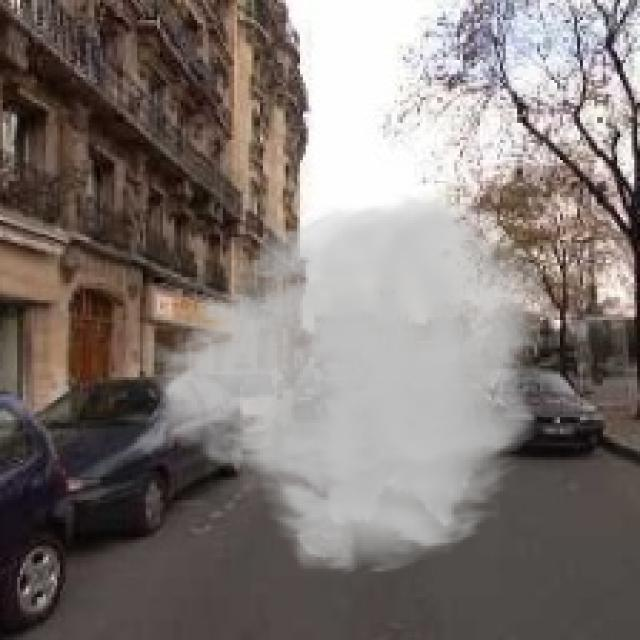Smoke: (132, 188, 557, 578)
